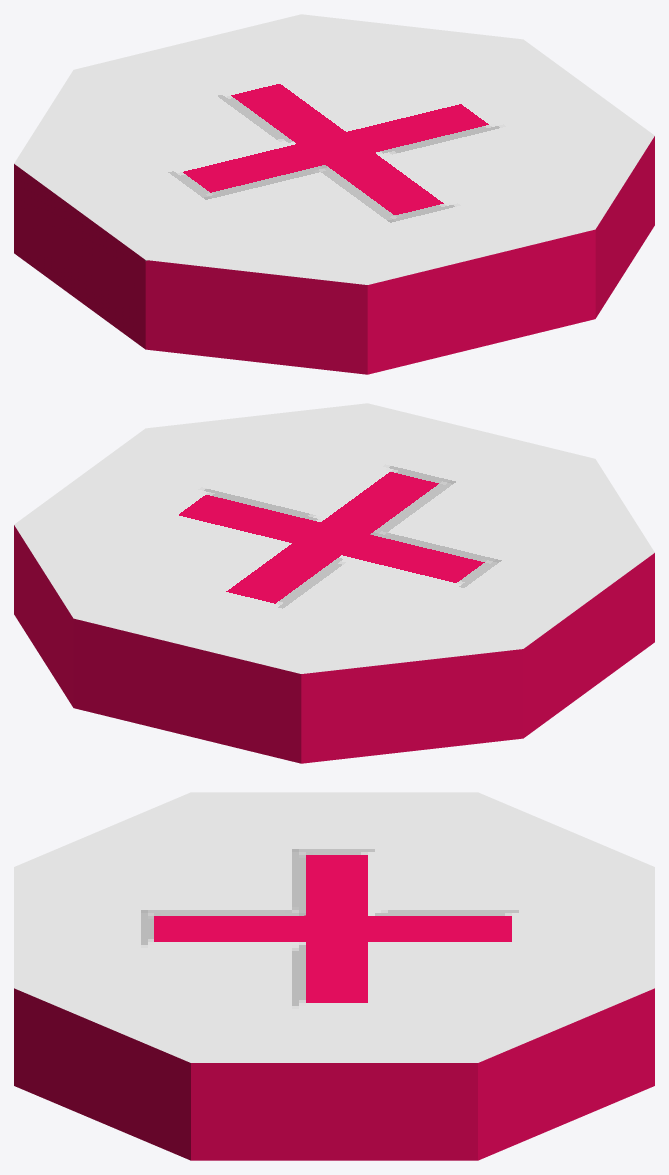
File: plus_button.glb
3 views of the same model, one above another, from view 1: azimuth 30°, elevation 25°; view 2: azimuth 150°, elevation 25°; view 3: azimuth 270°, elevation 25° (orthographic). The views are drawn at different scales.
Visible parts, largest first — view 1: plus_btn; view 2: plus_btn; view 3: plus_btn.
Part boxes in pixels (<box>): plus_btn: <box>14,14,654,374</box>; plus_btn: <box>14,403,654,763</box>; plus_btn: <box>14,792,654,1160</box>.
Bounding box in the file's own units: 0.0689 × 0.0116 × 0.0689.
1 material, 1 textured.
